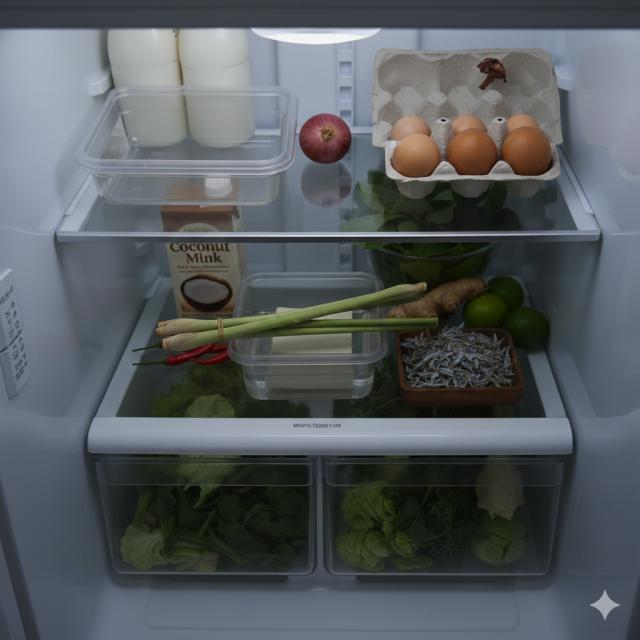anchovies: (402, 322, 514, 390)
cabbage: (474, 514, 529, 566)
chili: (132, 340, 229, 367)
egg: (372, 49, 563, 200)
ginger: (386, 277, 489, 320)
leafy_greens: (340, 169, 523, 291), (119, 455, 308, 572), (336, 456, 471, 572)
lemongrass: (154, 282, 438, 352)
lime: (462, 275, 550, 351)
onion: (299, 113, 352, 165)
tofu: (265, 307, 353, 399)
